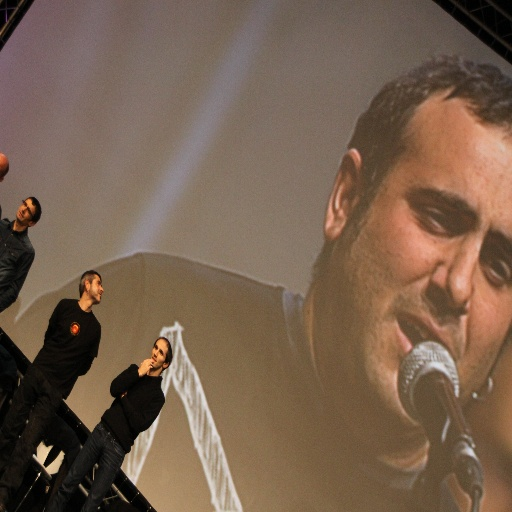hand: (139, 357, 156, 376)
